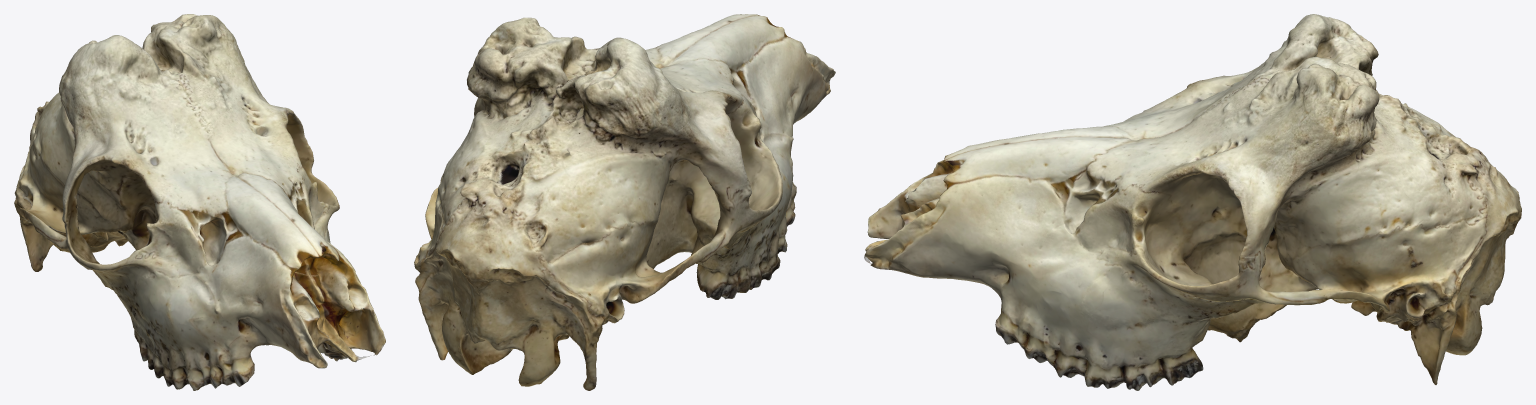
3 renders of one model, left to right at view 1: azimuth 30°, elevation 25°; view 2: azimuth 150°, elevation 25°; view 3: azimuth 270°, elevation 25°, orthographic. The views are drawn at different scales.
Parts seen in each view (by area): view 1: mesh_0; view 2: mesh_0; view 3: mesh_0.
Part boxes in pixels (x1,y1,x2,y2): mesh_0: (14,14,385,390); mesh_0: (414,14,835,390); mesh_0: (864,14,1521,390).
Size of the model in its own units: 1.63 by 1.69 by 3.24.
Materials: 1 (1 with a texture image).
